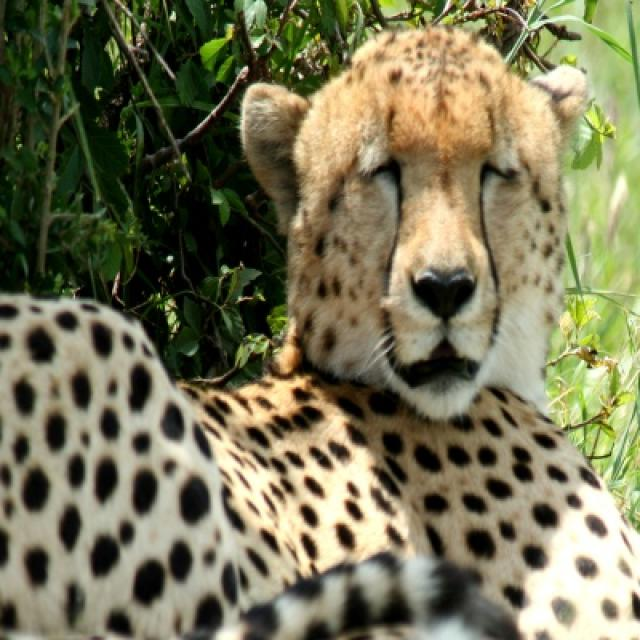Cheetah: (2, 27, 638, 638)
